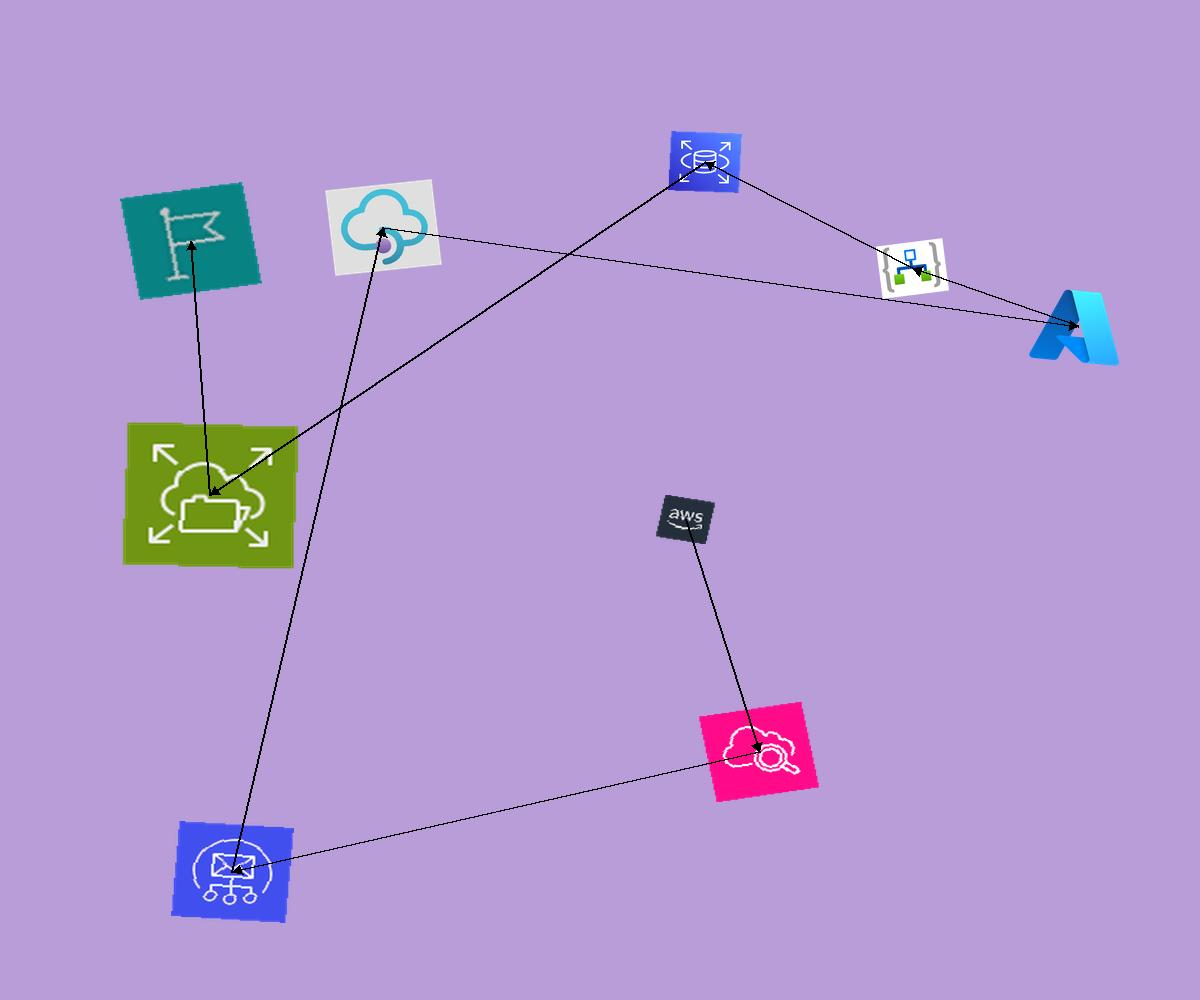AWS-Cloud-logo: (655, 494, 716, 545)
AWS-CloudWatch: (698, 701, 820, 803)
AWS-EFS: (121, 421, 300, 570)
AWS-RDS: (668, 131, 742, 193)
AWS-Region: (120, 182, 262, 300)
AWS-Simple-Email-Service: (171, 821, 294, 923)
Azure_api_gateway: (325, 179, 442, 276)
Azure_integration-204-Logic-Apps: (876, 238, 949, 299)
Azure_services: (1024, 281, 1133, 372)
